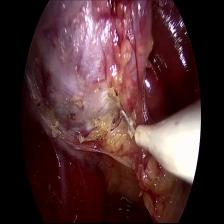Hook: (119, 95, 203, 178)
